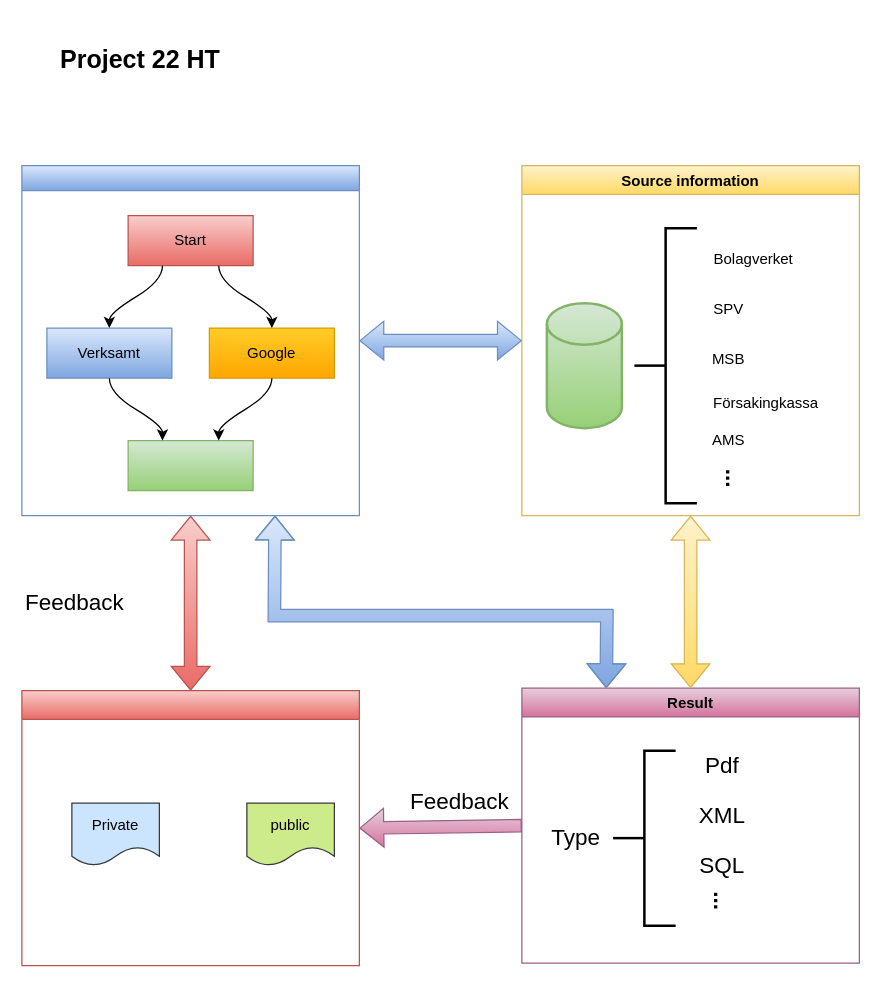
The diagram is 881 pixels wide and 988 high, and some of its shapes have lost their labels. The box of each missing label's shape, as (x1, y1, x2, y2) in pixels:
Client information: (21, 689, 359, 966)
End: (127, 439, 253, 491)
Solution: (21, 164, 359, 516)
